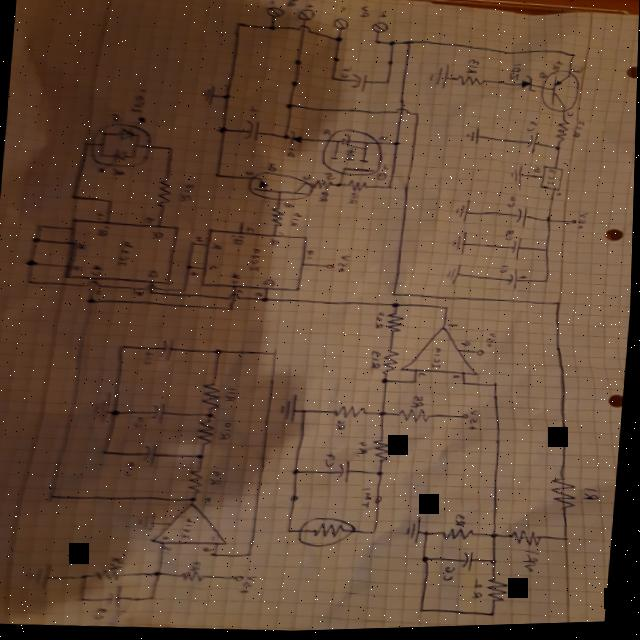capacitor: (109, 585, 130, 611), (507, 271, 531, 293), (243, 120, 264, 144), (349, 73, 370, 95), (509, 240, 528, 264), (515, 208, 533, 232), (339, 460, 356, 484), (163, 337, 179, 361), (525, 135, 541, 158), (156, 399, 170, 425), (148, 444, 161, 469), (465, 554, 480, 573)
crossover: (396, 108, 411, 119), (299, 25, 313, 35), (230, 295, 243, 302), (91, 281, 103, 288), (149, 284, 160, 291)
diode: (90, 114, 157, 176), (518, 76, 540, 98), (287, 131, 308, 148)
ground: (429, 65, 453, 91), (32, 563, 56, 589), (408, 518, 428, 547), (280, 397, 301, 424), (95, 391, 112, 424), (452, 231, 471, 259), (456, 201, 475, 225), (447, 265, 466, 288), (510, 167, 526, 194), (466, 129, 483, 148), (142, 512, 159, 531), (202, 86, 216, 106)
junction: (493, 560, 503, 568), (492, 613, 502, 621), (88, 298, 99, 305), (379, 472, 389, 479), (199, 454, 209, 461), (286, 104, 296, 111), (564, 538, 574, 545), (334, 37, 344, 44), (268, 26, 278, 33), (192, 497, 202, 504), (28, 259, 38, 266), (34, 236, 44, 243), (216, 349, 226, 356), (292, 82, 302, 89), (84, 141, 94, 148), (546, 219, 555, 226), (114, 410, 123, 417), (394, 303, 403, 310), (182, 288, 190, 295), (493, 535, 502, 541), (224, 95, 233, 101), (555, 148, 564, 154), (422, 609, 431, 615), (389, 42, 398, 48), (209, 413, 218, 419), (337, 183, 344, 190), (381, 412, 389, 418), (384, 380, 392, 386), (71, 194, 79, 200), (570, 56, 578, 62), (374, 531, 382, 537), (84, 574, 92, 580), (249, 553, 257, 559), (374, 40, 382, 46), (103, 449, 111, 455), (214, 173, 222, 179), (426, 558, 434, 564), (295, 470, 303, 476), (221, 128, 229, 134), (388, 61, 396, 67), (295, 61, 303, 67), (284, 136, 292, 142), (152, 596, 161, 601), (463, 383, 470, 389), (394, 143, 402, 148), (385, 82, 393, 87), (494, 385, 502, 390), (445, 308, 453, 313), (392, 294, 400, 299), (387, 187, 395, 192), (167, 147, 175, 152), (82, 597, 90, 602), (236, 23, 244, 28), (27, 279, 35, 284), (52, 494, 60, 499), (333, 59, 341, 64), (304, 410, 312, 415), (188, 265, 195, 270), (546, 281, 552, 286), (160, 572, 166, 577), (407, 43, 413, 48), (428, 534, 434, 539), (545, 251, 552, 255), (558, 304, 565, 308), (109, 199, 116, 203), (289, 530, 296, 534), (330, 78, 336, 82), (231, 308, 237, 312), (275, 353, 281, 357), (38, 224, 44, 228), (122, 345, 128, 349), (193, 242, 199, 246), (216, 554, 222, 558), (265, 299, 271, 303), (415, 115, 421, 119), (154, 292, 156, 294)
resistor: (299, 516, 361, 551), (551, 479, 583, 514), (513, 531, 546, 552), (400, 410, 436, 426), (157, 179, 175, 209), (491, 582, 514, 605), (374, 440, 395, 465), (335, 406, 370, 421), (444, 530, 479, 545), (200, 420, 220, 446), (385, 352, 403, 377), (205, 385, 223, 409), (191, 468, 206, 496), (388, 314, 407, 335), (456, 77, 487, 89), (347, 180, 373, 194), (96, 570, 126, 582), (557, 121, 572, 144), (272, 208, 288, 229), (313, 180, 337, 194), (183, 571, 209, 583)
terminal: (265, 7, 287, 20), (371, 22, 391, 36), (298, 10, 317, 23), (334, 19, 350, 32), (327, 264, 338, 272), (293, 496, 303, 503), (571, 221, 579, 229), (378, 497, 386, 505), (478, 352, 488, 358), (465, 415, 473, 422), (239, 576, 248, 582), (241, 222, 247, 228)
text: (129, 87, 149, 114), (119, 238, 135, 269), (239, 576, 262, 596), (525, 552, 544, 575), (250, 248, 266, 275), (469, 410, 484, 435), (433, 349, 447, 372), (572, 121, 587, 142), (363, 487, 376, 511), (584, 491, 606, 505), (445, 566, 461, 585), (111, 556, 130, 572), (185, 517, 198, 540), (466, 60, 482, 78), (182, 184, 198, 202), (223, 422, 238, 441), (372, 351, 386, 371), (375, 312, 389, 332), (476, 582, 490, 601), (226, 387, 241, 404), (212, 470, 227, 487), (339, 256, 353, 274), (546, 172, 560, 190), (127, 461, 141, 478), (510, 65, 523, 83), (413, 397, 428, 412), (457, 515, 471, 531), (97, 225, 113, 239), (487, 334, 500, 351), (578, 214, 591, 231), (358, 6, 372, 21), (291, 213, 305, 228), (327, 454, 340, 470), (378, 166, 390, 183), (232, 235, 249, 247), (150, 229, 168, 240), (360, 443, 373, 458), (92, 263, 105, 277), (348, 193, 361, 207), (248, 106, 261, 120), (337, 421, 352, 433), (109, 113, 125, 124), (504, 231, 517, 244), (319, 192, 332, 205), (231, 273, 244, 286), (267, 162, 281, 174), (342, 66, 353, 81), (145, 352, 157, 365), (100, 607, 112, 620), (193, 561, 206, 573), (306, 251, 319, 263), (527, 123, 540, 135), (508, 198, 519, 212), (325, 173, 339, 184), (287, 148, 299, 160), (552, 63, 564, 75), (287, 0, 302, 9), (113, 168, 128, 177), (500, 266, 512, 277), (149, 270, 163, 279), (138, 417, 148, 429), (265, 280, 279, 288), (377, 12, 389, 21), (214, 242, 226, 251), (449, 323, 463, 330), (246, 227, 260, 234), (463, 342, 475, 350), (196, 236, 209, 243), (539, 73, 549, 82), (147, 216, 157, 225), (272, 240, 283, 248), (277, 230, 289, 237), (136, 290, 146, 298), (95, 289, 105, 297), (419, 374, 430, 381), (212, 265, 223, 272), (97, 212, 106, 220), (574, 70, 584, 77), (165, 545, 175, 552), (307, 4, 317, 11), (76, 265, 86, 272), (78, 243, 88, 250), (285, 203, 295, 210), (248, 170, 257, 177), (567, 114, 577, 120), (304, 176, 314, 182), (454, 376, 463, 382), (535, 169, 544, 175), (192, 272, 202, 277), (206, 548, 216, 553), (206, 497, 216, 502), (379, 138, 389, 143), (324, 131, 334, 136), (213, 536, 221, 542), (166, 536, 174, 542), (257, 294, 266, 299), (342, 7, 348, 14), (237, 290, 246, 294), (269, 2, 277, 6), (557, 195, 564, 199), (564, 164, 570, 168)
transistor: (320, 129, 389, 179), (249, 170, 317, 205), (541, 73, 582, 116)
